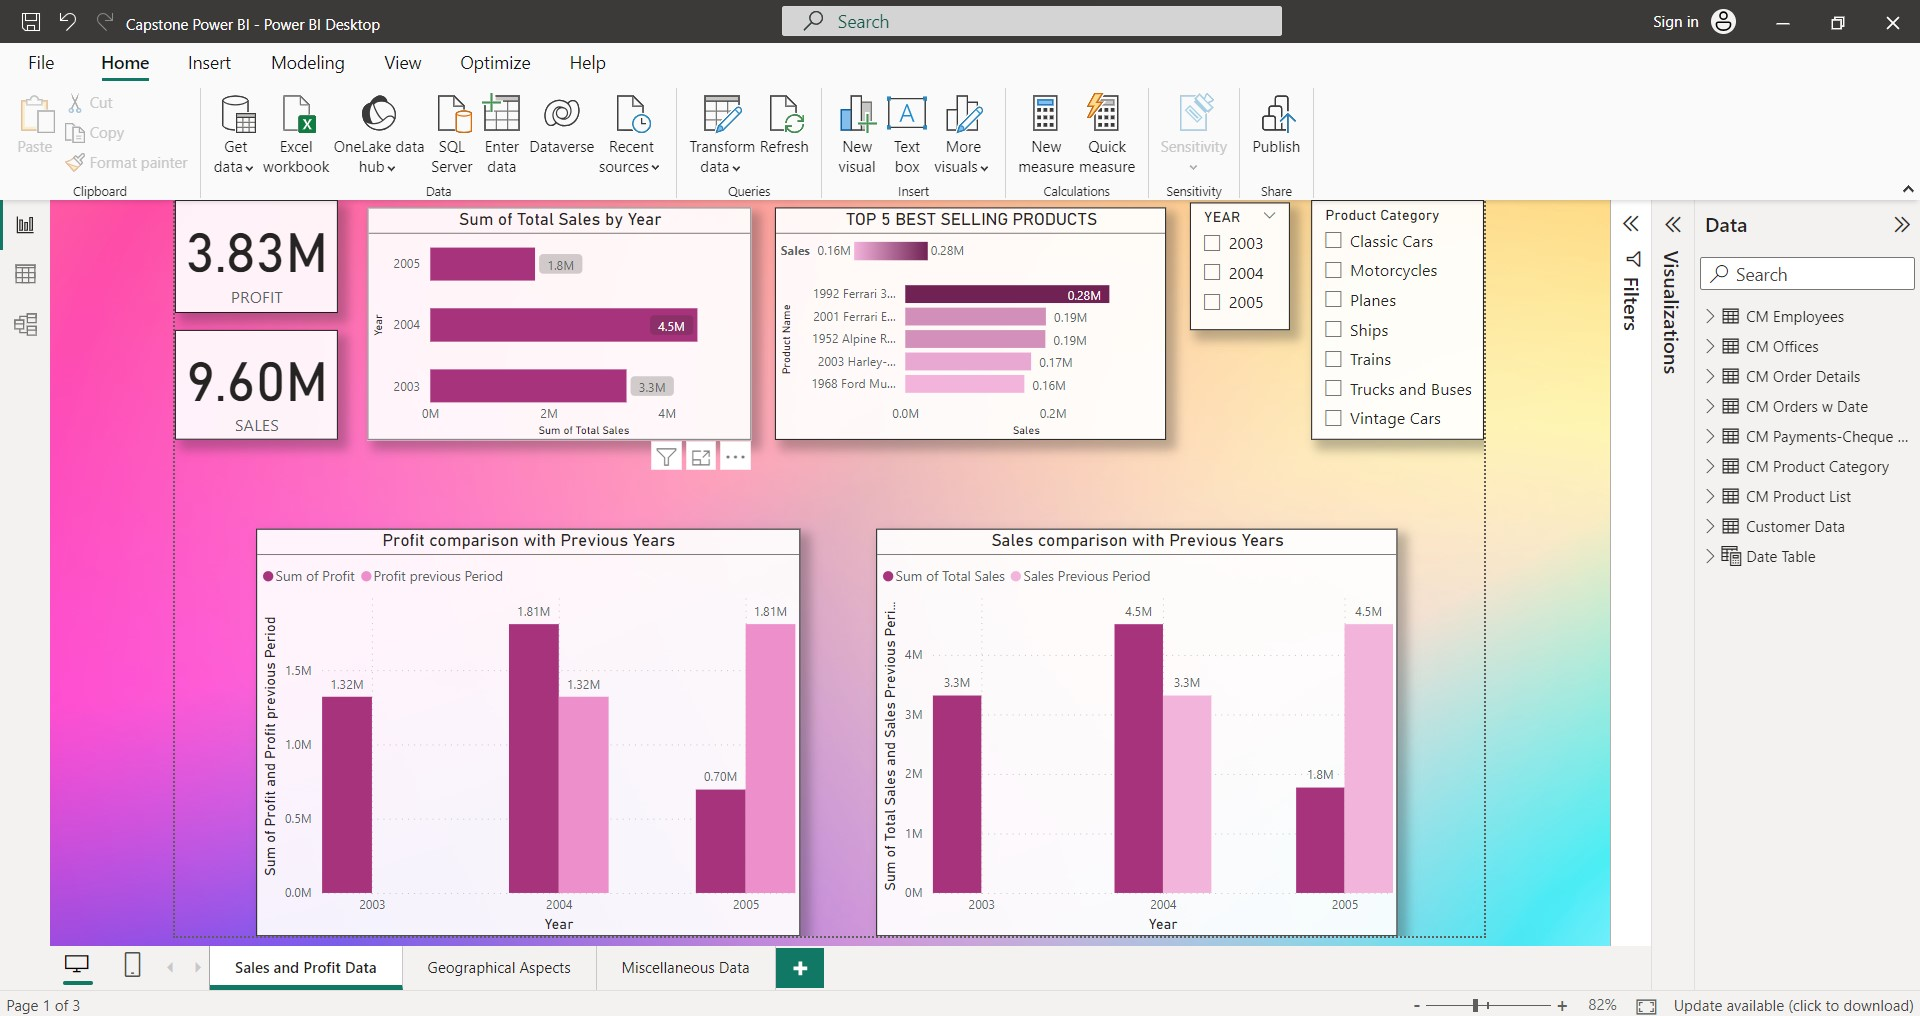

What the dashboard file says about the page in this screenshot:
{"tool":"powerbi","page":{"name":"Sales and Profit Data","canvas":[1280,720],"ordinal":0},"visuals":[{"type":"slicer","fields":{"Values":["CM Product List.Product Category"]},"box":[1111.2,0,168.7,234.7],"z":0},{"type":"clusteredColumnChart","title":"Profit comparison with Previous Years","fields":{"Y":["Sum(CM Order Details.Profit)","Date Table.Sales previous Period"],"Category":["Date Table.Year","Date Table.Month","Date Table.QUARTER"]},"box":[79.5,321.5,531.7,398.5],"z":1000},{"type":"slicer","fields":{"Values":["Date Table.Year"]},"box":[992.6,2.4,97.8,124.7],"z":2000},{"type":"card","fields":{"Values":["Sum(CM Order Details.Profit)"]},"box":[0,0,158.9,110],"z":3000},{"type":"clusteredColumnChart","title":"Sales comparison with Previous Years","fields":{"Y":["Sum(CM Order Details.Sales)","CM Employees.Sales Previous Period"],"Category":["Date Table.Year","Date Table.QUARTER","Date Table.Month"]},"box":[685.8,321.5,509.7,398.5],"z":4000},{"type":"card","fields":{"Values":["Sum(CM Order Details.Sales)"]},"box":[0,127.1,158.9,107.6],"z":5000},{"type":"clusteredBarChart","title":"TOP 5 BEST SELLING PRODUCTS","fields":{"Y":["Sum(CM Order Details.Sales)"],"Category":["CM Product List.Product Name"]},"box":[586.8,7.3,382.6,227.4],"z":6000},{"type":"clusteredBarChart","fields":{"Category":["Date Table.Year"],"Y":["Sum(CM Order Details.Total Sales)"]},"box":[188.3,7.3,375.3,227.4],"z":7000}]}

Visuals, with their boxes on the page's 1280x720 design canvas (x1, y1, x2, y2). These are canvas units, not pixel positions in the 1920x1016 screenshot, which may show the page scaled, cropped or inside an application window:
slicer - CM Product List.Product Category: 1111 0 1280 235
"Profit comparison with Previous Years" clusteredColumnChart: 80 322 611 720
slicer - Date Table.Year: 993 2 1090 127
card - Sum(CM Order Details.Profit): 0 0 159 110
"Sales comparison with Previous Years" clusteredColumnChart: 686 322 1196 720
card - Sum(CM Order Details.Sales): 0 127 159 235
"TOP 5 BEST SELLING PRODUCTS" clusteredBarChart: 587 7 969 235
clusteredBarChart - Date Table.Year x Sum(CM Order Details.Total Sales): 188 7 564 235
